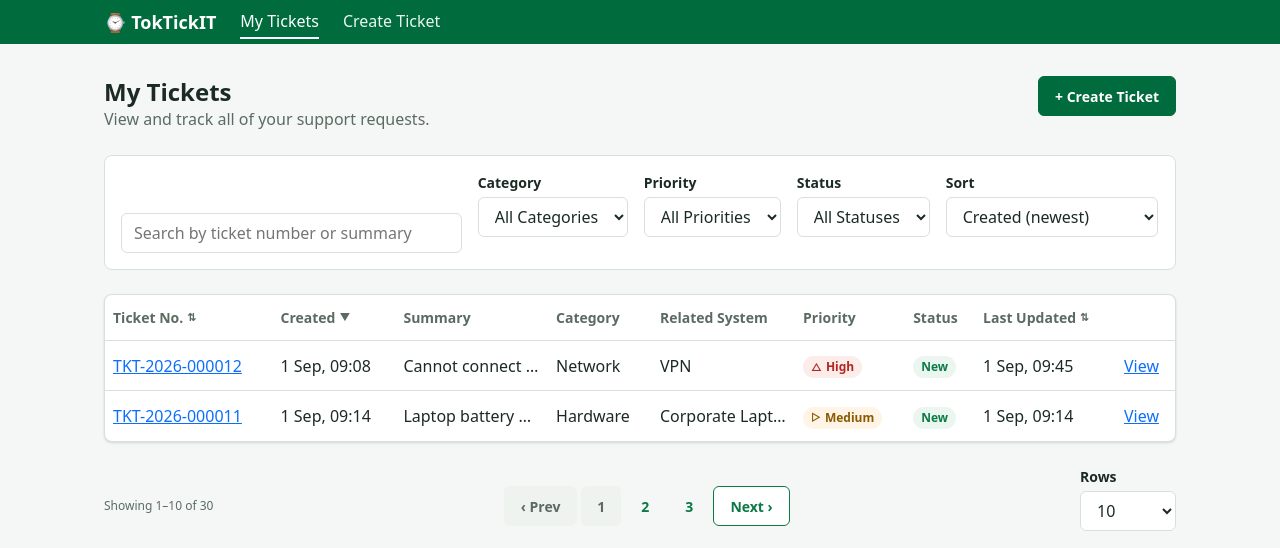
Scenario: Page resets to 1 on filter/search/sort/page-size change (bug guard, ui-spec.md §9) › does NOT reset an already-advanced page when the mount-time debounce settles on an unchanged (still empty) search (regression guard)
Expected: the table is shown, [105, 295, 1175, 441]
Click the button named "Page 2": (645, 506) [625, 486, 665, 526]
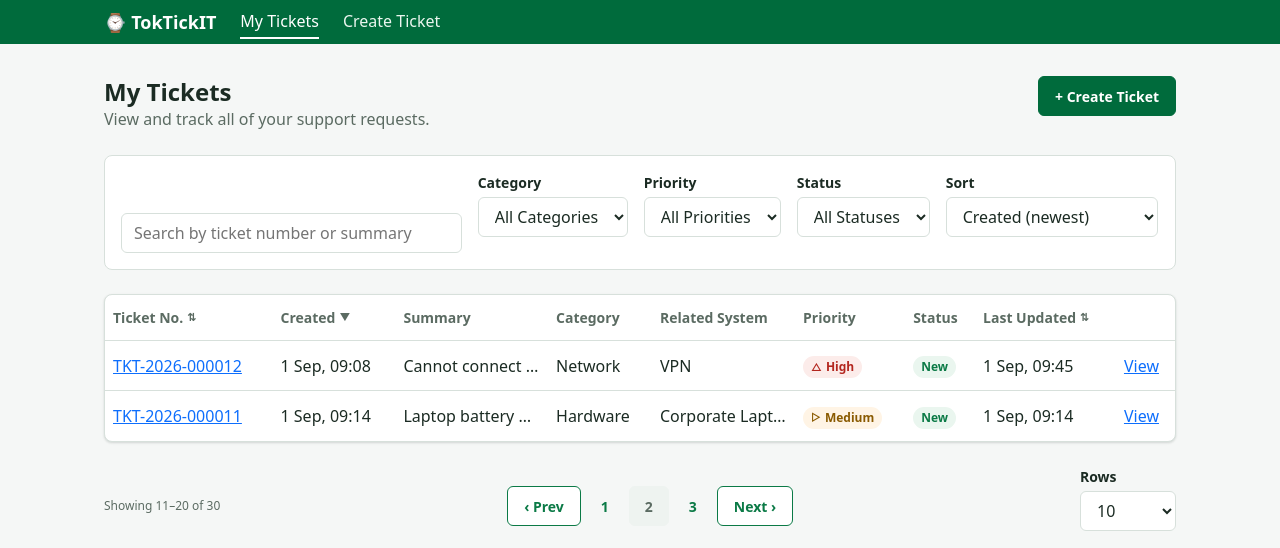
Expected: the table is shown, [105, 295, 1175, 441]
Now the button named "Page 2" is disabled, box [629, 486, 669, 526]
